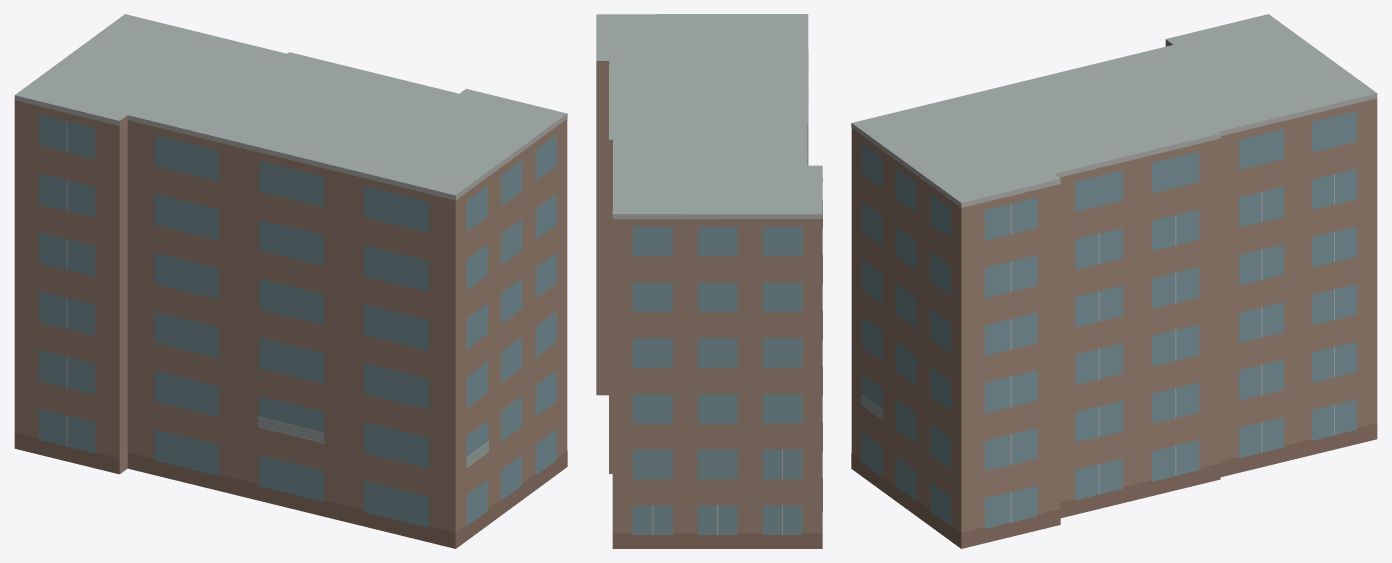
Rendered from survey-upis-32679063.glb.
3 views of the same model, side by side, from view 1: azimuth 30°, elevation 25°; view 2: azimuth 150°, elevation 25°; view 3: azimuth 270°, elevation 25° (orthographic). The views are drawn at different scales.
Parts seen in each view (by area): view 1: survey-upis-32679063.tmp; view 2: survey-upis-32679063.tmp; view 3: survey-upis-32679063.tmp.
Boxes of the visible parts, box(x1,y1,x2,y2) form: survey-upis-32679063.tmp: box(14, 14, 567, 548); survey-upis-32679063.tmp: box(596, 14, 822, 548); survey-upis-32679063.tmp: box(851, 14, 1377, 548).
Bounding box in the file's own units: 20.06 × 17.1 × 23.57.
